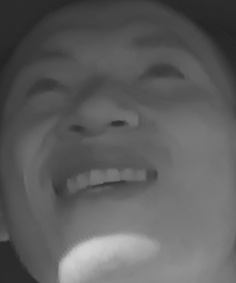eye: (19, 73, 73, 103), (139, 59, 192, 86)
mouth: (39, 149, 164, 209)
